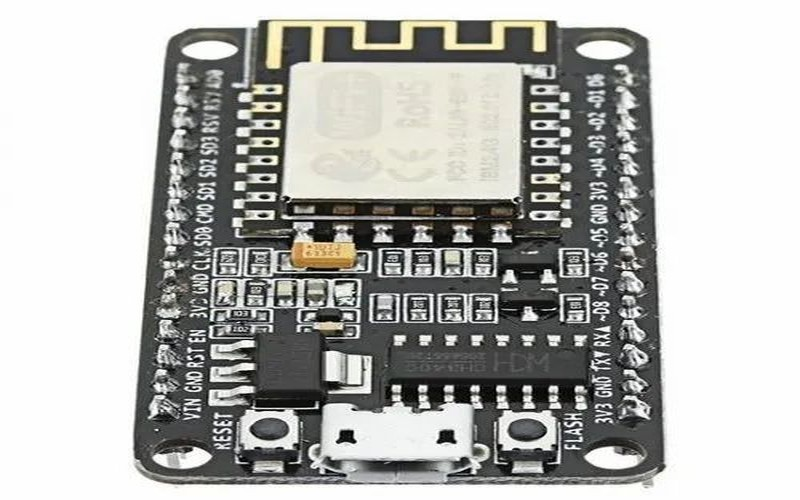IoT Sensor: (125, 9, 679, 498)
